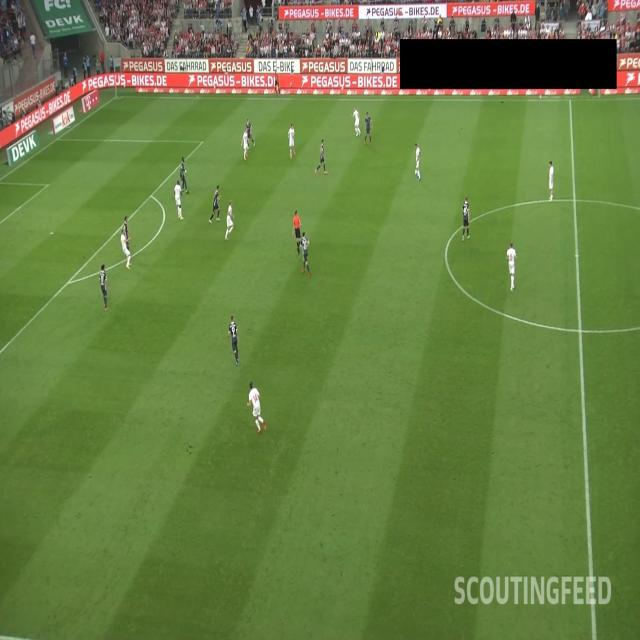ball: (414, 168, 418, 175)
